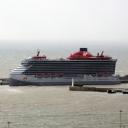cruises: (9, 47, 123, 89)
